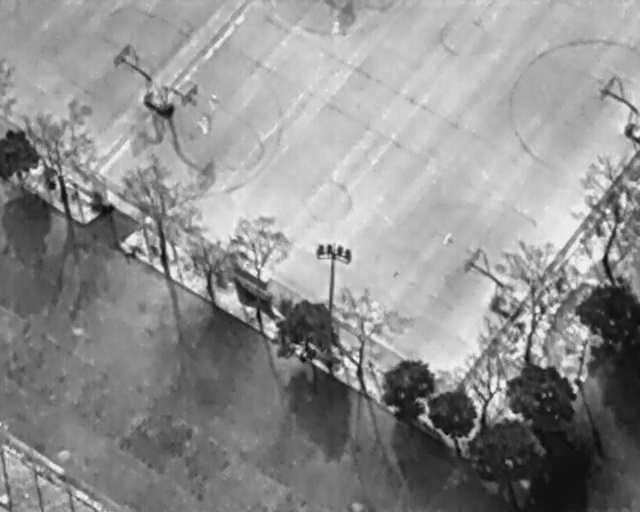Person: (198, 113, 210, 134), (332, 17, 341, 36), (443, 230, 452, 245), (211, 91, 218, 110)
